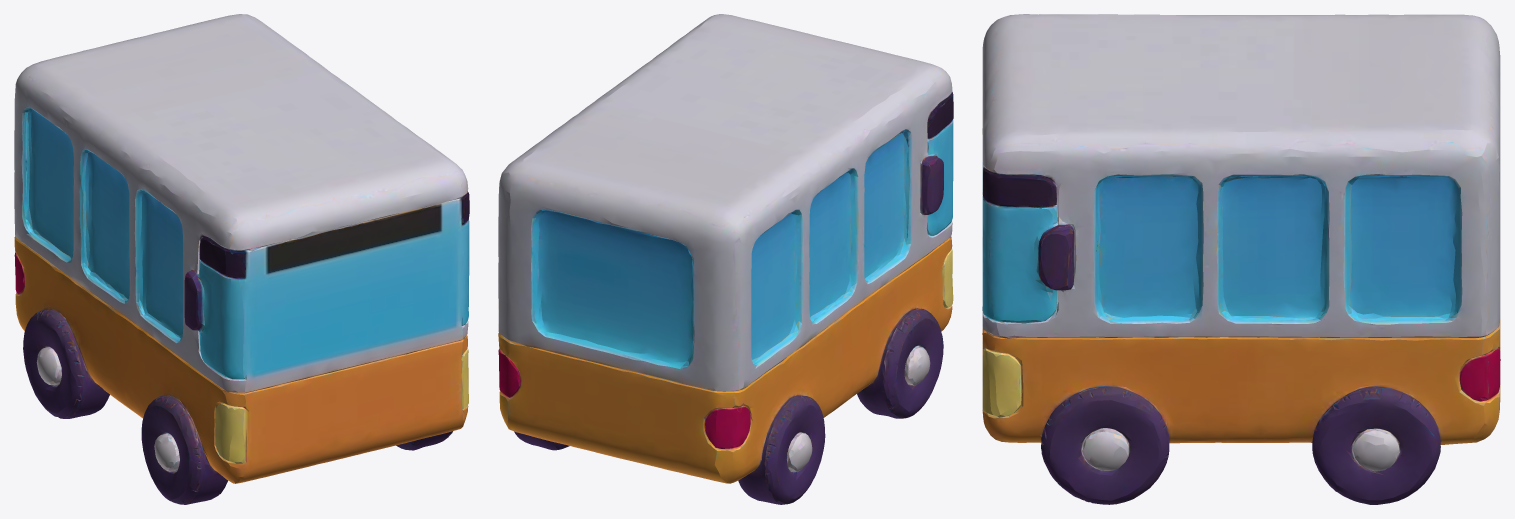
The model's file is bus.glb.
3 views of the same model, side by side, from view 1: azimuth 30°, elevation 25°; view 2: azimuth 150°, elevation 25°; view 3: azimuth 270°, elevation 25° (orthographic). The views are drawn at different scales.
Visible parts, largest first — view 1: Mesh; view 2: Mesh; view 3: Mesh.
Part boxes in pixels (x1,y1,x2,y2): Mesh: [14, 14, 469, 504]; Mesh: [498, 14, 953, 504]; Mesh: [982, 14, 1500, 504].
Size of the model in its own units: 0.7227 by 0.7751 by 1.
1 material, 1 textured.
